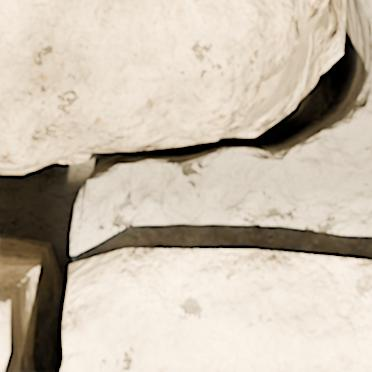brick: (0, 0, 327, 170)
broken_brick: (64, 248, 371, 371), (0, 297, 10, 301), (0, 361, 2, 371)
crack: (0, 0, 371, 371)
